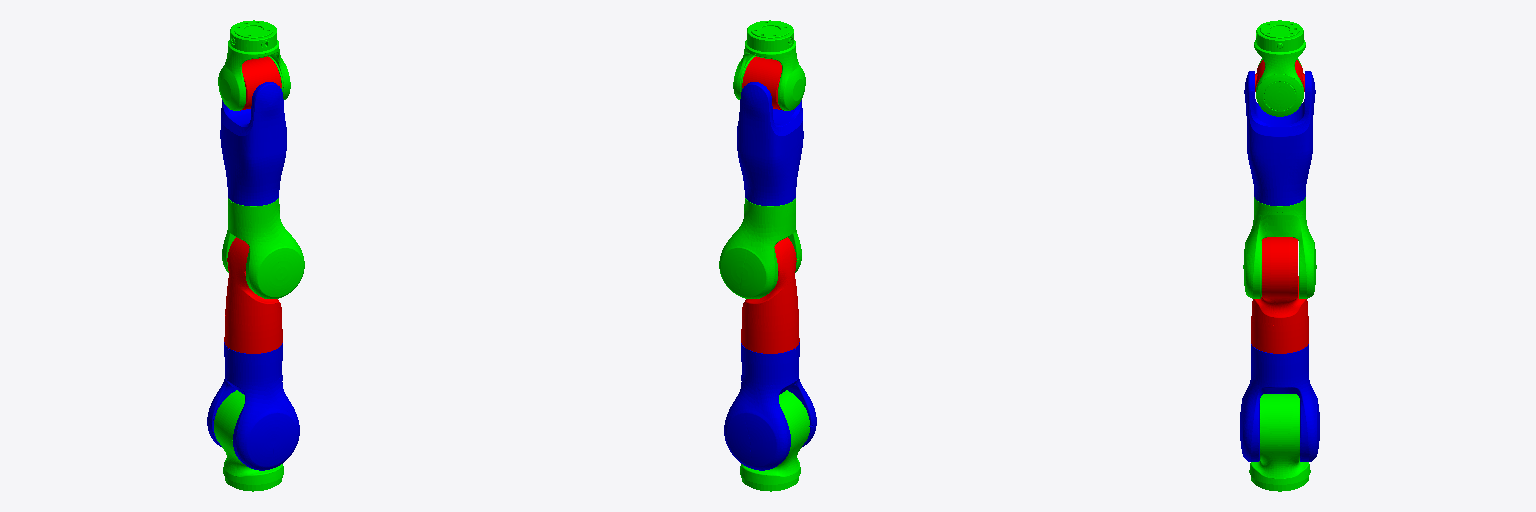
URDF robot description (Marvin M6-S-L-CCS-696-V3.1 urdf):
<?xml version="1.0" encoding="utf-8"?>
<!-- This URDF was automatically created by SolidWorks to URDF Exporter! Originally created by [author] ([email redacted]) 
     Commit Version: 1.5.1-0-g916b5db  Build Version: 1.5.7152.31018
     For more information, please see http://wiki.ros.org/sw_urdf_exporter -->
<robot
  name="Marvin M6-S-L-CCS-696-V3.1 urdf">
  <link
    name="Base_L">
    <inertial>
      <origin
        xyz="0.0001427 1.626E-05 0.039067"
        rpy="0 0 0" />
      <mass
        value="1.2946" />
      <inertia
        ixx="0.00116453"
        ixy="1.06E-06"
        ixz="-8.13E-06"
        iyy="0.00114921"
        iyz="3.08E-06"
        izz="0.00141686" />
    </inertial>
    <visual>
      <origin
        xyz="0 0 0"
        rpy="0 0 0" />
      <geometry>
        <mesh
          filename="package://Marvin M6-S-L-CCS-696-V3.1_URDF/meshes/Base_L.STL" />
      </geometry>
      <material
        name="">
        <color
          rgba="1 0 0 1" />
      </material>
    </visual>
    <collision>
      <origin
        xyz="0 0 0"
        rpy="0 0 0" />
      <geometry>
        <mesh
          filename="package://Marvin M6-S-L-CCS-696-V3.1_URDF/meshes/Base_L.STL" />
      </geometry>
    </collision>
  </link>
  <link
    name="Link1_L">
    <inertial>
      <origin
        xyz="0.00001923 0.00600811 -0.03148378"
        rpy="0 0 0" />
      <mass
        value="2.0407" />
      <inertia
        ixx="0.00509562"
        ixy="0.00000262"
        ixz="0.00000381"
        iyy="0.00548465"
        iyz="0.00038437"
        izz="0.00196968" />
    </inertial>
    <visual>
      <origin
        xyz="0 0 0"
        rpy="0 0 0" />
      <geometry>
        <mesh
          filename="package://Marvin M6-S-L-CCS-696-V3.1_URDF/meshes/Link1_L.STL" />
      </geometry>
      <material
        name="">
        <color
          rgba="0 1 0 1" />
      </material>
    </visual>
    <collision>
      <origin
        xyz="0 0 0"
        rpy="0 0 0" />
      <geometry>
        <mesh
          filename="package://Marvin M6-S-L-CCS-696-V3.1_URDF/meshes/Link1_L.STL" />
      </geometry>
    </collision>
  </link>
  <joint
    name="Joint1_L"
    type="revolute">
    <origin
      xyz="0 0 0.1745"
      rpy="0 0 0" />
    <parent
      link="Base_L" />
    <child
      link="Link1_L" />
    <axis
      xyz="0 0 1" />
    <limit
      lower="-3.1067"
      upper="3.1067"
      effort="108"
      velocity="3.1416" />
  </joint>
  <link
    name="Link2_L">
    <inertial>
      <origin
        xyz="-7.03E-06 0.05542024 0.01099501"
        rpy="0 0 0" />
      <mass
        value="1.9432" />
      <inertia
        ixx="0.01035460"
        ixy="-0.00000559"
        ixz="0.00000206"
        iyy="0.00316139"
        iyz="-0.00119042"
        izz="0.00953530" />
    </inertial>
    <visual>
      <origin
        xyz="0 0 0"
        rpy="0 0 0" />
      <geometry>
        <mesh
          filename="package://Marvin M6-S-L-CCS-696-V3.1_URDF/meshes/Link2_L.STL" />
      </geometry>
      <material
        name="">
        <color
          rgba="0 0 1 1" />
      </material>
    </visual>
    <collision>
      <origin
        xyz="0 0 0"
        rpy="0 0 0" />
      <geometry>
        <mesh
          filename="package://Marvin M6-S-L-CCS-696-V3.1_URDF/meshes/Link2_L.STL" />
      </geometry>
    </collision>
  </link>
  <joint
    name="Joint2_L"
    type="revolute">
    <origin
      xyz="0 0 0"
      rpy="1.5708 0 0" />
    <parent
      link="Link1_L" />
    <child
      link="Link2_L" />
    <axis
      xyz="0 0 1" />
    <limit
      lower="-2.0944"
      upper="2.0944"
      effort="108"
      velocity="3.1416" />
  </joint>
  <link
    name="Link3_L">
    <inertial>
      <origin
        xyz="0.00874109 0.00190429 -0.05212644"
        rpy="0 0 0" />
      <mass
        value="1.6913" />
      <inertia
        ixx="0.01110274"
        ixy="0.00006153"
        ixz="0.00002256"
        iyy="0.01161921"
        iyz="0.00000886"
        izz="0.00177973" />
    </inertial>
    <visual>
      <origin
        xyz="0 0 0"
        rpy="0 0 0" />
      <geometry>
        <mesh
          filename="package://Marvin M6-S-L-CCS-696-V3.1_URDF/meshes/Link3_L.STL" />
      </geometry>
      <material
        name="">
        <color
          rgba="1 0 0 1" />
      </material>
    </visual>
    <collision>
      <origin
        xyz="0 0 0"
        rpy="0 0 0" />
      <geometry>
        <mesh
          filename="package://Marvin M6-S-L-CCS-696-V3.1_URDF/meshes/Link3_L.STL" />
      </geometry>
    </collision>
  </link>
  <joint
    name="Joint3_L"
    type="revolute">
    <origin
      xyz="0 0.287 0"
      rpy="-1.5708 0 0" />
    <parent
      link="Link2_L" />
    <child
      link="Link3_L" />
    <axis
      xyz="0 0 1" />
    <limit
      lower="-3.1067"
      upper="3.1067"
      effort="66"
      velocity="3.1416" />
  </joint>
  <link
    name="Link4_L">
    <inertial>
      <origin
        xyz="0.00862861 -0.04583101 0.00996355"
        rpy="0 0 0" />
      <mass
        value="1.5216" />
      <inertia
        ixx="0.00527601"
        ixy="-0.00061432"
        ixz="-0.00012859"
        iyy="0.00207991"
        iyz="0.00068720"
        izz="0.00489628" />
    </inertial>
    <visual>
      <origin
        xyz="0 0 0"
        rpy="0 0 0" />
      <geometry>
        <mesh
          filename="package://Marvin M6-S-L-CCS-696-V3.1_URDF/meshes/Link4_L.STL" />
      </geometry>
      <material
        name="">
        <color
          rgba="0 1 0 1" />
      </material>
    </visual>
    <collision>
      <origin
        xyz="0 0 0"
        rpy="0 0 0" />
      <geometry>
        <mesh
          filename="package://Marvin M6-S-L-CCS-696-V3.1_URDF/meshes/Link4_L.STL" />
      </geometry>
    </collision>
  </link>
  <joint
    name="Joint4_L"
    type="revolute">
    <origin
      xyz="0.018 0 0"
      rpy="-1.5708 0 3.1416" />
    <parent
      link="Link3_L" />
    <child
      link="Link4_L" />
    <axis
      xyz="0 0 1" />
    <limit
      lower="-2.5307"
      upper="1.0472"
      effort="66"
      velocity="3.1416" />
  </joint>
  <link
    name="Link5_L">
    <inertial>
      <origin
        xyz="-3.71E-04 -0.00123806 -0.11495257"
        rpy="0 0 0" />
      <mass
        value="2.0099" />
      <inertia
        ixx="0.00580179"
        ixy="-0.00003608"
        ixz="-0.00004499"
        iyy="0.00534956"
        iyz="-0.00000992"
        izz="0.00216109" />
    </inertial>
    <visual>
      <origin
        xyz="0 0 0"
        rpy="0 0 0" />
      <geometry>
        <mesh
          filename="package://Marvin M6-S-L-CCS-696-V3.1_URDF/meshes/Link5_L.STL" />
      </geometry>
      <material
        name="">
        <color
          rgba="0 0 1 1" />
      </material>
    </visual>
    <collision>
      <origin
        xyz="0 0 0"
        rpy="0 0 0" />
      <geometry>
        <mesh
          filename="package://Marvin M6-S-L-CCS-696-V3.1_URDF/meshes/Link5_L.STL" />
      </geometry>
    </collision>
  </link>
  <joint
    name="Joint5_L"
    type="revolute">
    <origin
      xyz="0.018 -0.314 0"
      rpy="-1.5708 0 3.1416" />
    <parent
      link="Link4_L" />
    <child
      link="Link5_L" />
    <axis
      xyz="0 0 1" />
    <limit
      lower="-3.1067"
      upper="3.1067"
      effort="18"
      velocity="3.1416" />
  </joint>
  <link
    name="Link6_L">
    <inertial>
      <origin
        xyz="0.00028419 0.00512339 -0.00013941"
        rpy="0 0 0" />
      <mass
        value="0.69023365" />
      <inertia
        ixx="0.00041498"
        ixy="0.00000180"
        ixz="0.00000074"
        iyy="0.00049605"
        iyz="-0.00000230"
        izz="0.00038415" />
    </inertial>
    <visual>
      <origin
        xyz="0 0 0"
        rpy="0 0 0" />
      <geometry>
        <mesh
          filename="package://Marvin M6-S-L-CCS-696-V3.1_URDF/meshes/Link6_L.STL" />
      </geometry>
      <material
        name="">
        <color
          rgba="1 0 0 1" />
      </material>
    </visual>
    <collision>
      <origin
        xyz="0 0 0"
        rpy="0 0 0" />
      <geometry>
        <mesh
          filename="package://Marvin M6-S-L-CCS-696-V3.1_URDF/meshes/Link6_L.STL" />
      </geometry>
    </collision>
  </link>
  <joint
    name="Joint6_L"
    type="revolute">
    <origin
      xyz="0 0 0"
      rpy="1.5708 -1.5708 0" />
    <parent
      link="Link5_L" />
    <child
      link="Link6_L" />
    <axis
      xyz="0 0 1" />
    <limit
      lower="-1.0472"
      upper="1.0472"
      effort="18"
      velocity="3.1416" />
  </joint>
  <link
    name="Link7_L">
    <inertial>
      <origin
        xyz="-0.00009108 -0.03153255 0.00889371"
        rpy="0 0 0" />
      <mass
        value="0.68606212" />
      <inertia
        ixx="0.00155069"
        ixy="0.00000424"
        ixz="0.00000027"
        iyy="0.00079634"
        iyz="0.00021682"
        izz="0.00126206" />
    </inertial>
    <visual>
      <origin
        xyz="0 0 0"
        rpy="0 0 0" />
      <geometry>
        <mesh
          filename="package://Marvin M6-S-L-CCS-696-V3.1_URDF/meshes/Link7_L.STL" />
      </geometry>
      <material
        name="">
        <color
          rgba="0 1 0 1" />
      </material>
    </visual>
    <collision>
      <origin
        xyz="0 0 0"
        rpy="0 0 0" />
      <geometry>
        <mesh
          filename="package://Marvin M6-S-L-CCS-696-V3.1_URDF/meshes/Link7_L.STL" />
      </geometry>
    </collision>
  </link>
  <joint
    name="Joint7_L"
    type="revolute">
    <origin
      xyz="0 0 0"
      rpy="1.5708 -1.5708 0" />
    <parent
      link="Link6_L" />
    <child
      link="Link7_L" />
    <axis
      xyz="0 0 1" />
    <limit
      lower="-1.5708"
      upper="1.5708"
      effort="18"
      velocity="3.1416" />
  </joint>
</robot>

--- Facts derived from the render (not from the file) ---
Views: 3 orthographic renders of the robot side by side, from view 1: azimuth 30°, elevation 25°; view 2: azimuth 150°, elevation 25°; view 3: azimuth 270°, elevation 25°.
Robot: Marvin M6-S-L-CCS-696-V3.1 urdf — 8 links, 7 joints (7 revolute); root link Base_L; default pose: all joints at 0.
Links seen in each view (by area): view 1: Link2_L, Link5_L, Link4_L, Link3_L, Link7_L, Link1_L, Link6_L; view 2: Link2_L, Link5_L, Link4_L, Link3_L, Link7_L, Link1_L, Link6_L; view 3: Link5_L, Link3_L, Link2_L, Link1_L, Link7_L, Link4_L.
Link boxes in pixels (x1,y1,x2,y2): Link2_L: (207,342,299,470); Link5_L: (220,82,286,205); Link4_L: (222,198,304,298); Link3_L: (224,237,282,353); Link7_L: (218,20,290,110); Link1_L: (214,390,283,491); Link6_L: (240,56,281,110); Link2_L: (724,342,816,470); Link5_L: (737,82,803,205); Link4_L: (719,198,801,298); Link3_L: (741,237,799,353); Link7_L: (733,20,805,110); Link1_L: (740,390,809,491); Link6_L: (742,56,783,110); Link5_L: (1244,71,1315,205); Link3_L: (1251,237,1308,353); Link2_L: (1240,344,1319,461); Link1_L: (1249,394,1310,491); Link7_L: (1254,20,1305,116); Link4_L: (1243,197,1316,298).
Bounding box of the posed robot: 0.1262 × 0.1271 × 0.7915 m (x, y, z).
Meshes: 8 distinct files referenced, 7 mesh visuals loaded (7 binary STL); not drawn: 1 (reference not matched to a file when rendering).